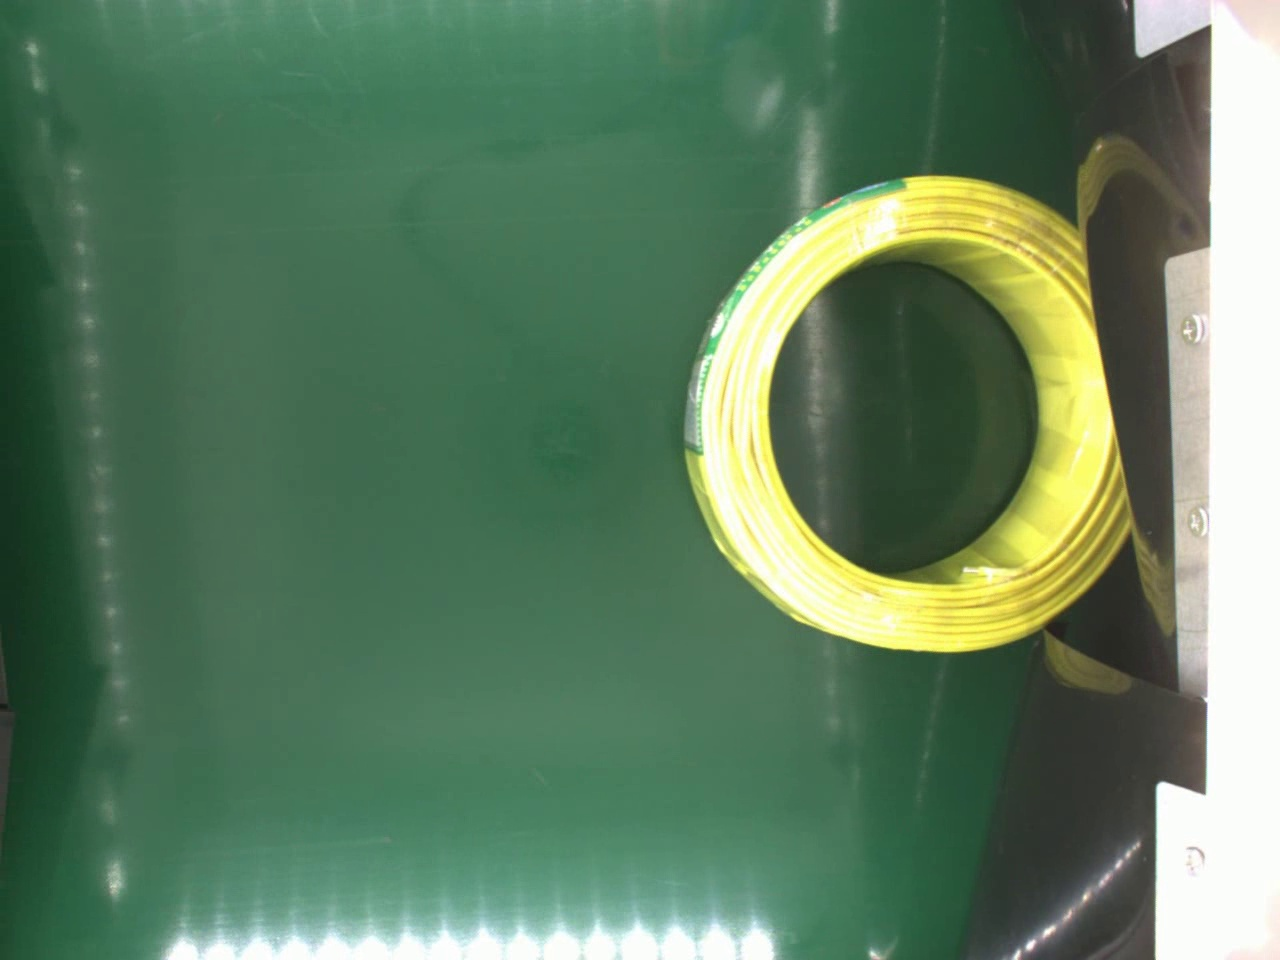yellow: (681, 171, 1131, 654)
